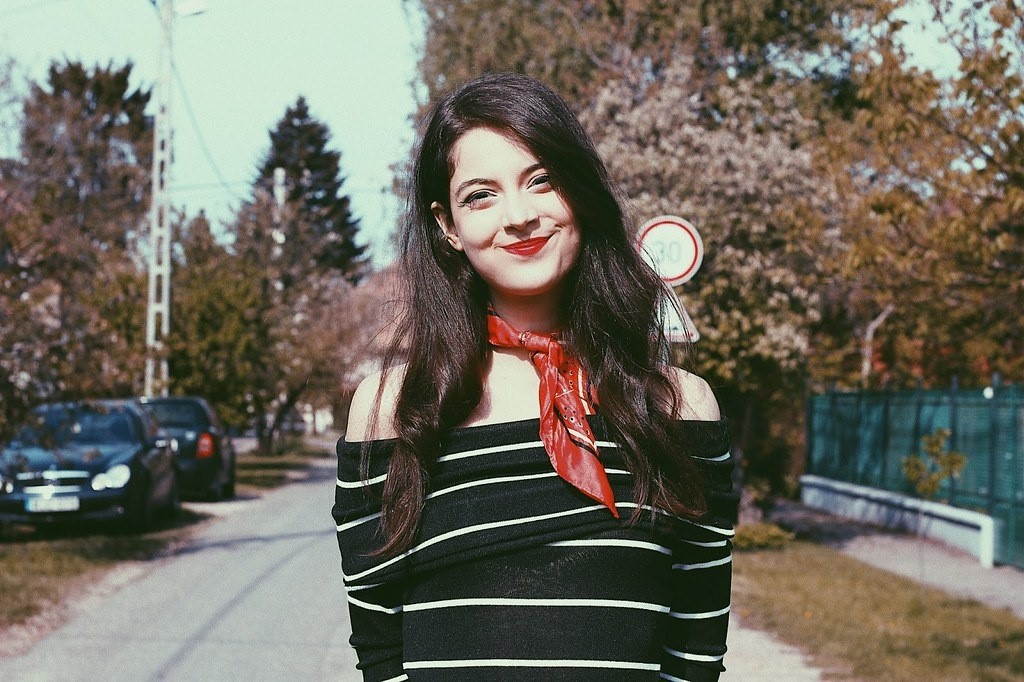face_no_mask: (427, 88, 599, 300)
